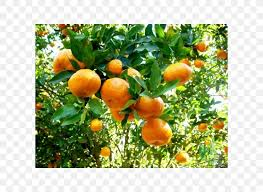orange: (138, 117, 177, 147), (68, 68, 102, 101), (100, 78, 130, 106), (161, 61, 193, 86), (134, 93, 165, 117)
